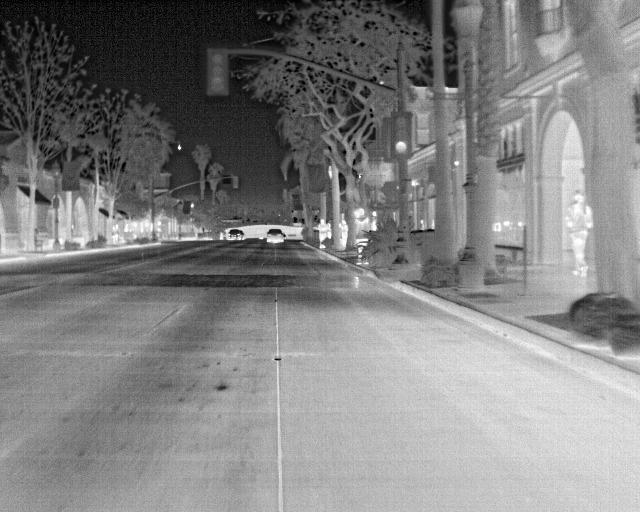bicycle: (264, 226, 285, 244), (227, 227, 243, 242)
empty: (564, 188, 597, 281), (315, 220, 327, 246)
